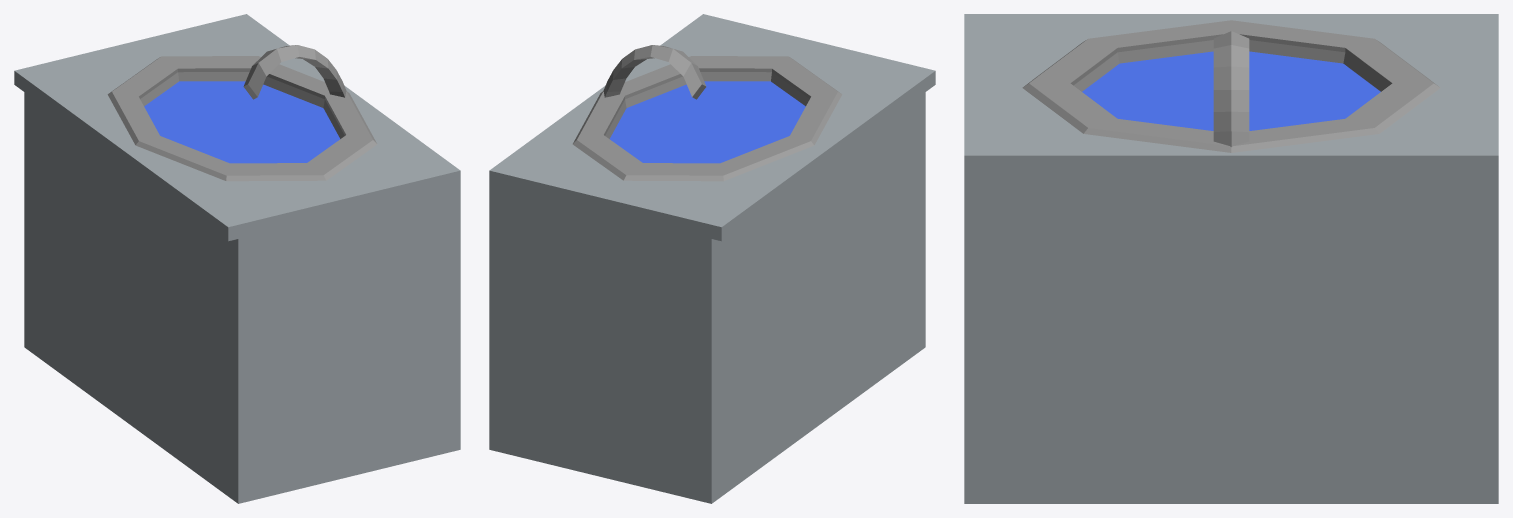
The model's file is sink_01_mockup.fbx.
3 views of the same model, side by side, from view 1: azimuth 30°, elevation 25°; view 2: azimuth 150°, elevation 25°; view 3: azimuth 270°, elevation 25° (orthographic). The views are drawn at different scales.
Parts seen in each view (by area): view 1: Plane; view 2: Plane; view 3: Plane.
Part boxes in pixels (bbox=[...]): Plane: bbox=[14, 14, 460, 503]; Plane: bbox=[489, 14, 935, 503]; Plane: bbox=[964, 14, 1498, 503].
Bounding box in the file's own units: 0.6272 × 1 × 0.8807.
